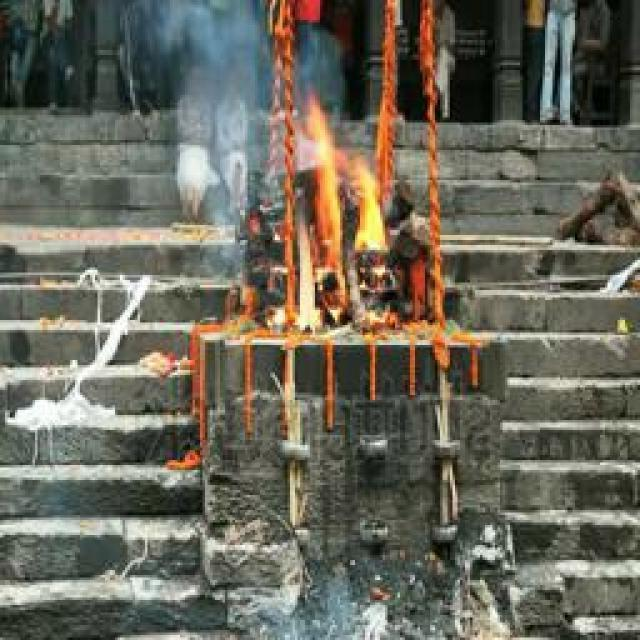Fire: (293, 120, 388, 330)
